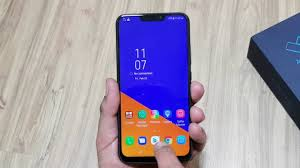asus: (113, 11, 194, 162)
